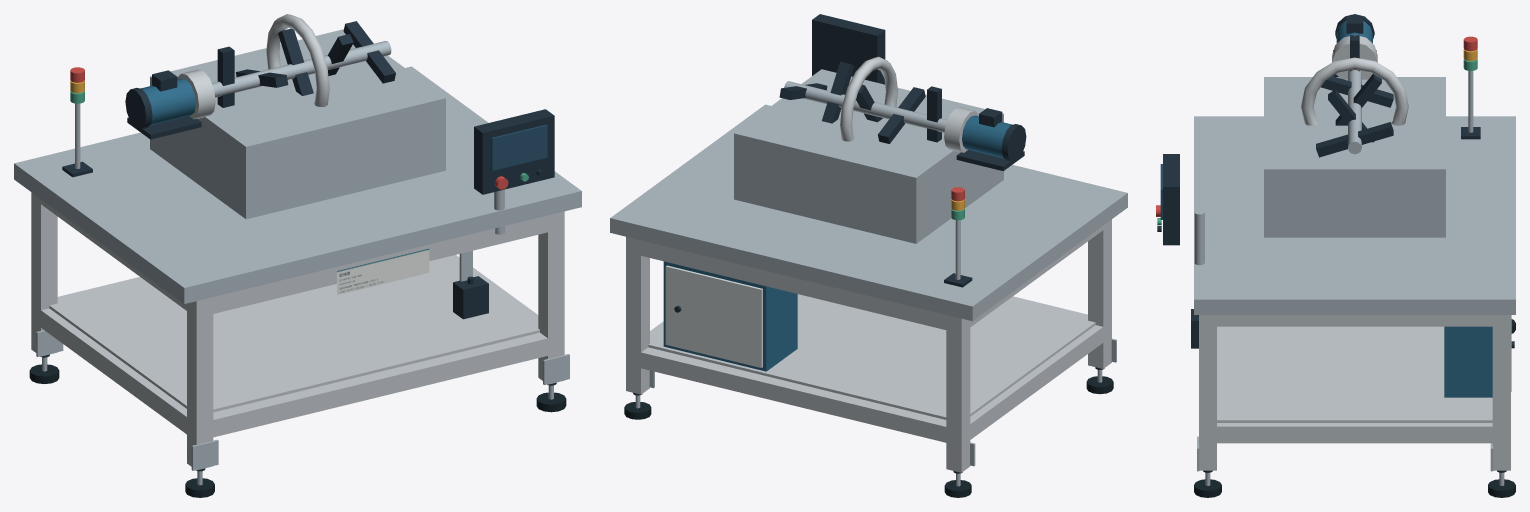
File: colloid-mill-cell.glb
The picture shows the model from 3 angles, left to right: view 1: azimuth 30°, elevation 25°; view 2: azimuth 150°, elevation 25°; view 3: azimuth 270°, elevation 25°; orthographic projection. The views are drawn at different scales.
Parts seen in each view (by area): view 1: ClosedMachineBed_28, LowerShelf_29, MixerTrough_48, SlottedExtrusion_22, SlottedExtrusion_23, SlottedExtrusion_8, SlottedExtrusion_24, ConsoleBack_34, SlottedExtrusion_18, SlottedExtrusion_3, OriginalNameplate_42, Stator_62 (+13 smaller); view 2: ClosedMachineBed_28, MixerTrough_48, LowerShelf_29, BackDoor_31, SlottedExtrusion_20, SlottedExtrusion_21, SlottedExtrusion_3, ConsoleBack_34, Cabinet_30, SlottedExtrusion_13, SlottedExtrusion_24, SlottedExtrusion_8 (+10 smaller); view 3: ClosedMachineBed_28, MixerTrough_48, LowerShelf_29, SlottedExtrusion_26, Cabinet_30, SlottedExtrusion_27, SlottedExtrusion_13, SlottedExtrusion_18, Stator_62, ConsoleBack_34, MixingBlade_54, RotorShaft_49 (+7 smaller).
Boxes of the visible parts, <box> form: ClosedMachineBed_28: <box>14,66,581,303</box>; LowerShelf_29: <box>49,256,539,412</box>; MixerTrough_48: <box>150,29,445,219</box>; SlottedExtrusion_22: <box>205,333,547,437</box>; SlottedExtrusion_23: <box>205,215,547,315</box>; SlottedExtrusion_8: <box>187,297,213,470</box>; SlottedExtrusion_24: <box>36,308,191,436</box>; ConsoleBack_34: <box>474,109,554,194</box>; SlottedExtrusion_18: <box>538,211,564,384</box>; SlottedExtrusion_3: <box>31,192,57,356</box>; OriginalNameplate_42: <box>337,248,429,294</box>; Stator_62: <box>266,14,329,106</box>; ClosedMachineBed_28: <box>610,104,1127,321</box>; MixerTrough_48: <box>734,69,1003,243</box>; LowerShelf_29: <box>648,294,1095,419</box>; BackDoor_31: <box>665,265,762,367</box>; SlottedExtrusion_20: <box>633,347,953,444</box>; SlottedExtrusion_21: <box>633,239,953,331</box>; SlottedExtrusion_3: <box>946,315,970,472</box>; ConsoleBack_34: <box>812,14,885,84</box>; Cabinet_30: <box>663,261,797,371</box>; SlottedExtrusion_13: <box>626,236,649,394</box>; SlottedExtrusion_24: <box>967,325,1107,440</box>; SlottedExtrusion_8: <box>1088,219,1111,368</box>; ClosedMachineBed_28: <box>1194,116,1515,314</box>; MixerTrough_48: <box>1264,77,1445,237</box>; LowerShelf_29: <box>1217,326,1492,422</box>; SlottedExtrusion_26: <box>1208,423,1501,443</box>; Cabinet_30: <box>1444,326,1492,397</box>; SlottedExtrusion_27: <box>1208,315,1501,326</box>; SlottedExtrusion_13: <box>1492,315,1510,470</box>; SlottedExtrusion_18: <box>1199,315,1216,470</box>; Stator_62: <box>1301,57,1408,125</box>; ConsoleBack_34: <box>1163,154,1179,245</box>; MixingBlade_54: <box>1316,122,1393,157</box>; RotorShaft_49: <box>1348,70,1361,154</box>.
Size of the model in its own units: 1.55 by 1.39 by 1.29.
11 materials, 1 textured.
